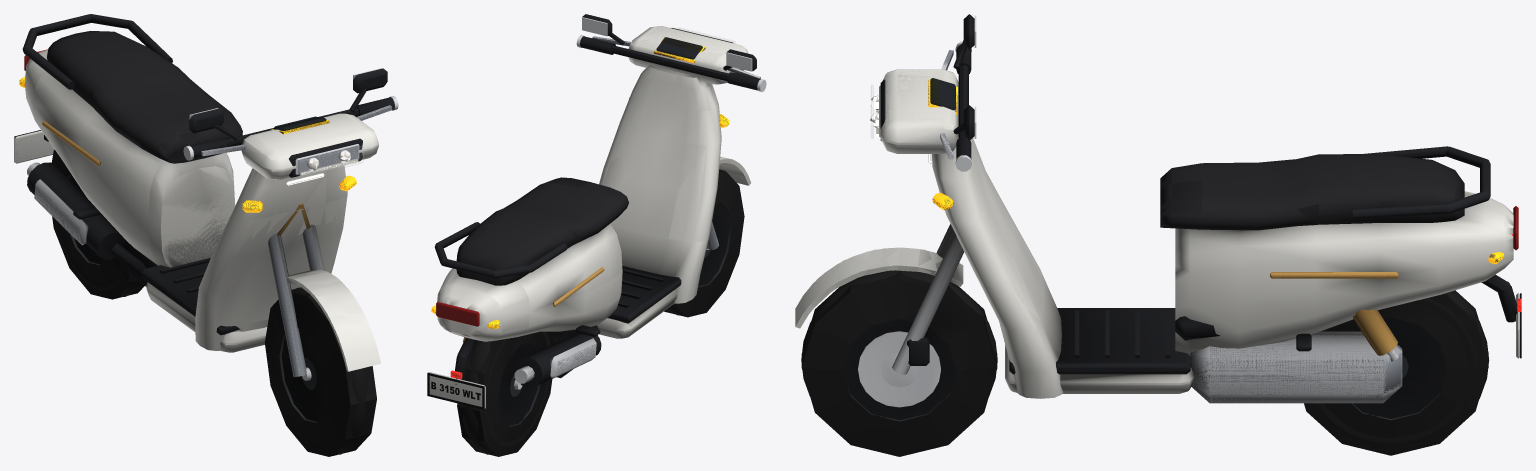
Rendered from walet.glb.
The picture shows the model from 3 angles, left to right: view 1: azimuth 30°, elevation 25°; view 2: azimuth 150°, elevation 25°; view 3: azimuth 270°, elevation 25°; orthographic projection. The views are drawn at different scales.
Parts seen in each view (by area): view 1: body, lod1_rest, lod1_paint, steer, wheel_f, wheel_r; view 2: body, lod1_rest, lod1_paint, steer, wheel_r, lod1_glass, wheel_f; view 3: body, lod1_rest, steer, lod1_paint, wheel_f, wheel_r.
Boxes of the visible parts, box(x1,y1,x2,y2) form: body: box(14, 14, 356, 352); lod1_rest: box(15, 14, 394, 456); lod1_paint: box(25, 49, 380, 371); steer: box(183, 68, 398, 376); wheel_f: box(279, 287, 366, 454); wheel_r: box(55, 156, 142, 296); body: box(427, 65, 729, 409); lod1_rest: box(428, 19, 760, 456); lod1_paint: box(437, 26, 750, 341); steer: box(576, 14, 766, 249); wheel_r: box(462, 331, 550, 454); lod1_glass: box(656, 37, 702, 59); wheel_f: box(667, 202, 731, 315); body: box(928, 139, 1521, 403); lod1_rest: box(801, 14, 1521, 456); steer: box(795, 14, 976, 374); lod1_paint: box(795, 69, 1513, 385); wheel_f: box(801, 270, 997, 421); wheel_r: box(1315, 290, 1489, 445).
Size of the model in its own units: 0.724 by 1.11 by 1.92.
